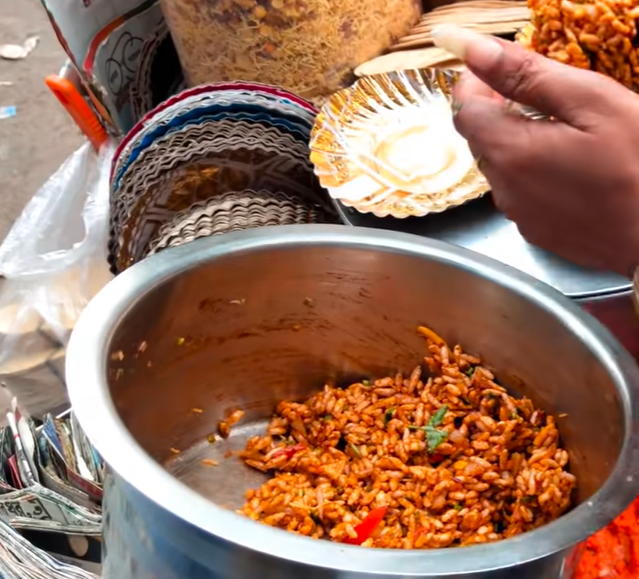chatpate: (271, 376, 503, 534)
